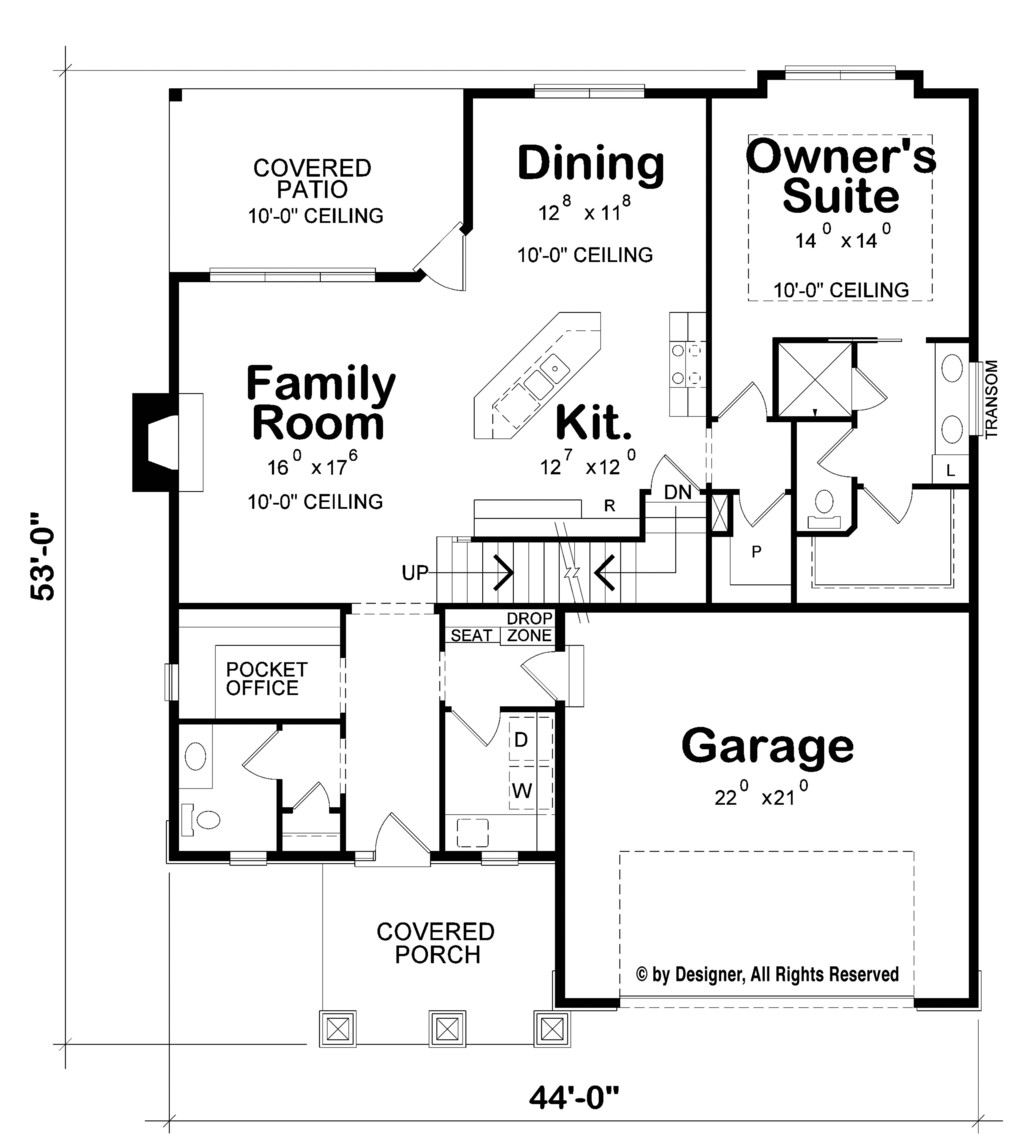door: (518, 649, 595, 710), (414, 224, 478, 292), (370, 815, 439, 872), (730, 483, 804, 531), (864, 478, 925, 533), (234, 721, 286, 779), (814, 417, 862, 479), (452, 699, 514, 744), (709, 383, 770, 426), (848, 367, 887, 419), (286, 776, 332, 819)
kitchen_bar: (461, 312, 618, 460)
large_sink: (177, 797, 237, 846), (804, 476, 850, 537)
small_sink: (928, 346, 971, 460), (177, 722, 214, 790)
stairs: (430, 465, 709, 603)
window: (209, 260, 382, 290), (528, 74, 646, 104), (787, 60, 900, 87), (159, 662, 189, 710)
